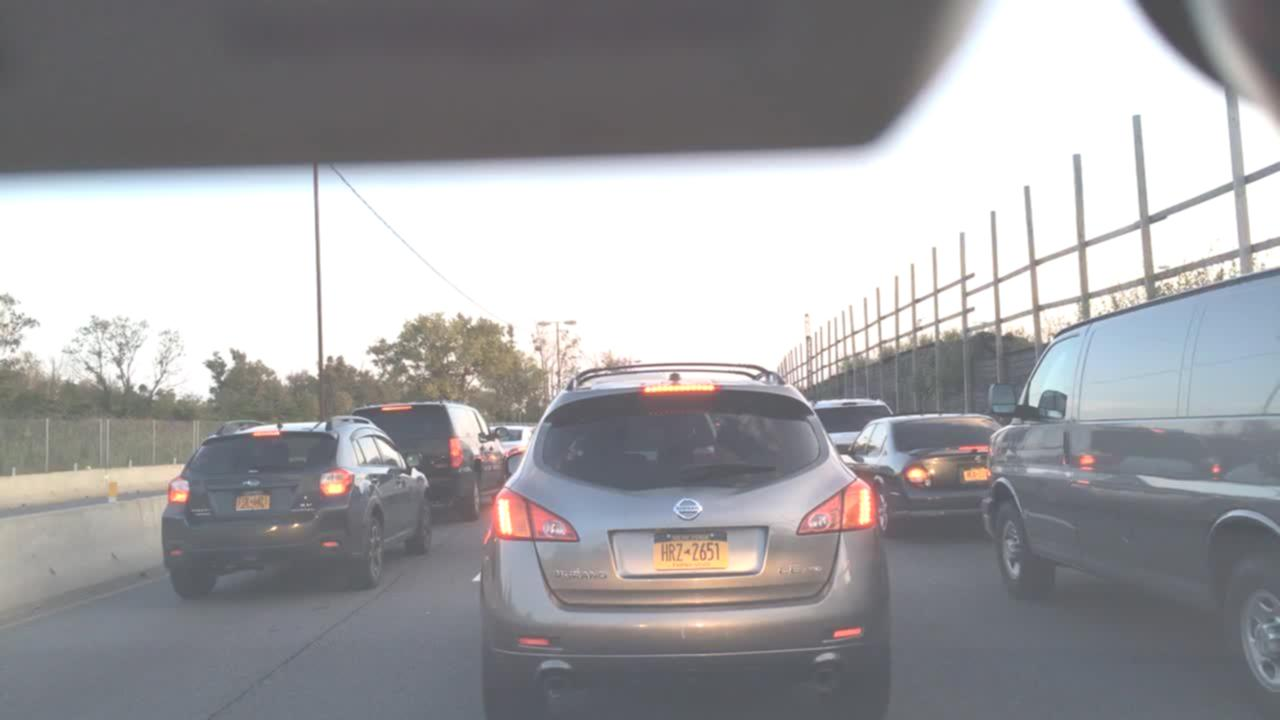Nissan: (668, 494, 718, 532)
